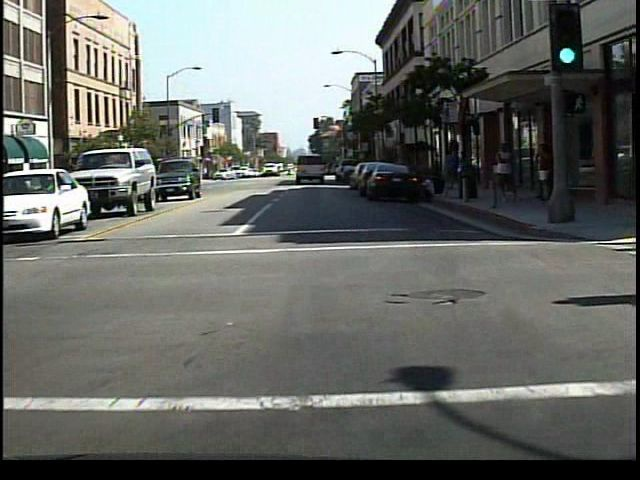person: (492, 137, 526, 211), (440, 144, 463, 198)
